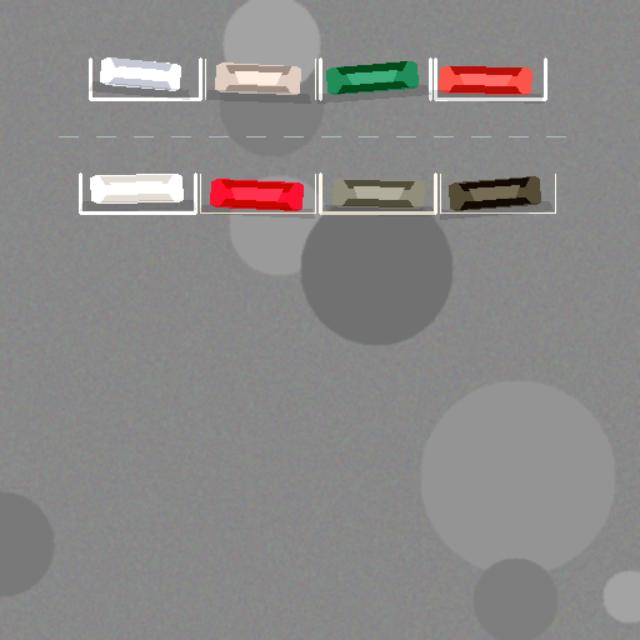space-occupied: (80, 174, 195, 213), (200, 174, 315, 213), (320, 174, 435, 213), (440, 174, 555, 213), (90, 59, 200, 99), (205, 59, 315, 99), (320, 59, 430, 99), (435, 59, 545, 99)
